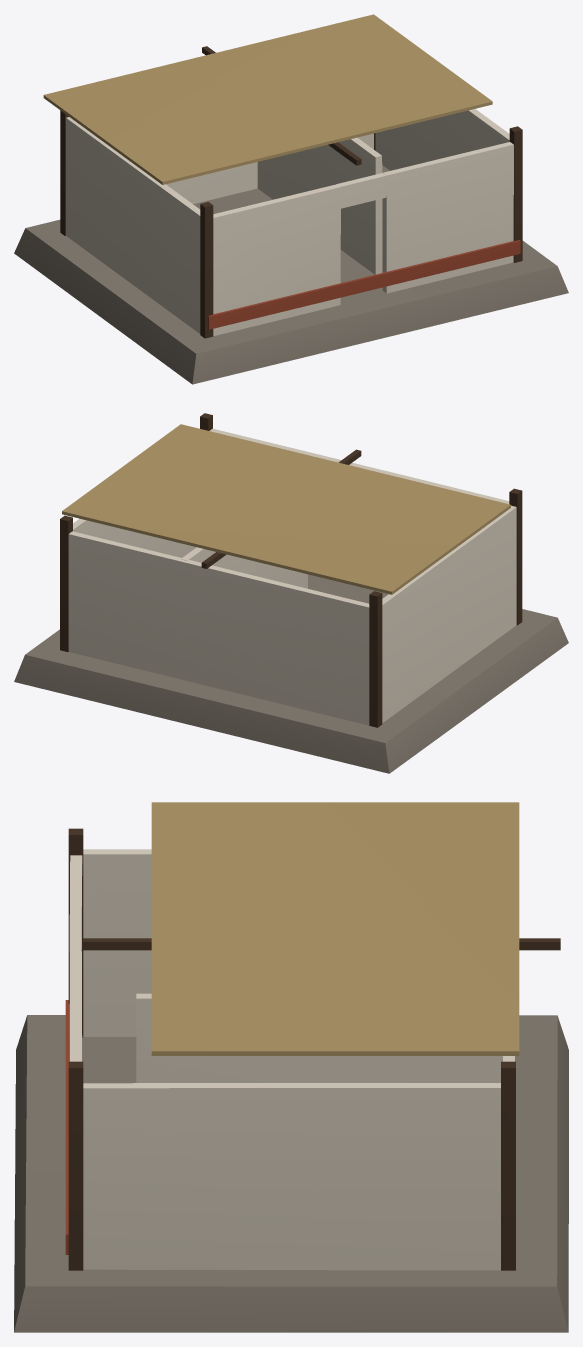
File: caral_house_elite_lod1.glb
The picture shows the model from 3 angles, top to bottom: view 1: azimuth 30°, elevation 25°; view 2: azimuth 150°, elevation 25°; view 3: azimuth 270°, elevation 25°; orthographic projection. The views are drawn at different scales.
Parts seen in each view (by area): view 1: GEO-Arch_house_elite_LOD1; view 2: GEO-Arch_house_elite_LOD1; view 3: GEO-Arch_house_elite_LOD1.
Boxes of the visible parts, <box> form: GEO-Arch_house_elite_LOD1: <box>14,14,568,384</box>; GEO-Arch_house_elite_LOD1: <box>14,413,568,773</box>; GEO-Arch_house_elite_LOD1: <box>14,802,568,1332</box>.
Bounding box in the file's own units: 9 × 3.82 × 7.44.
